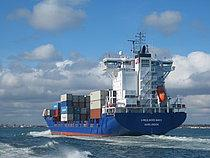Ship: (37, 29, 190, 141)
